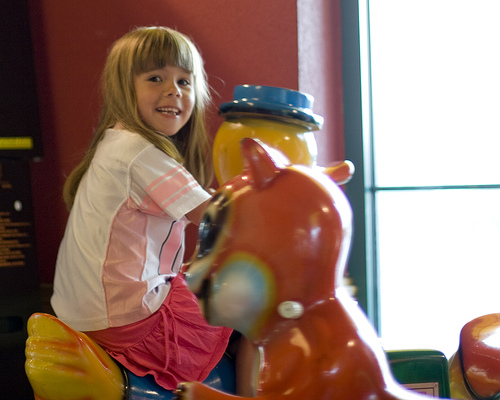without_mask: (118, 44, 207, 143)
